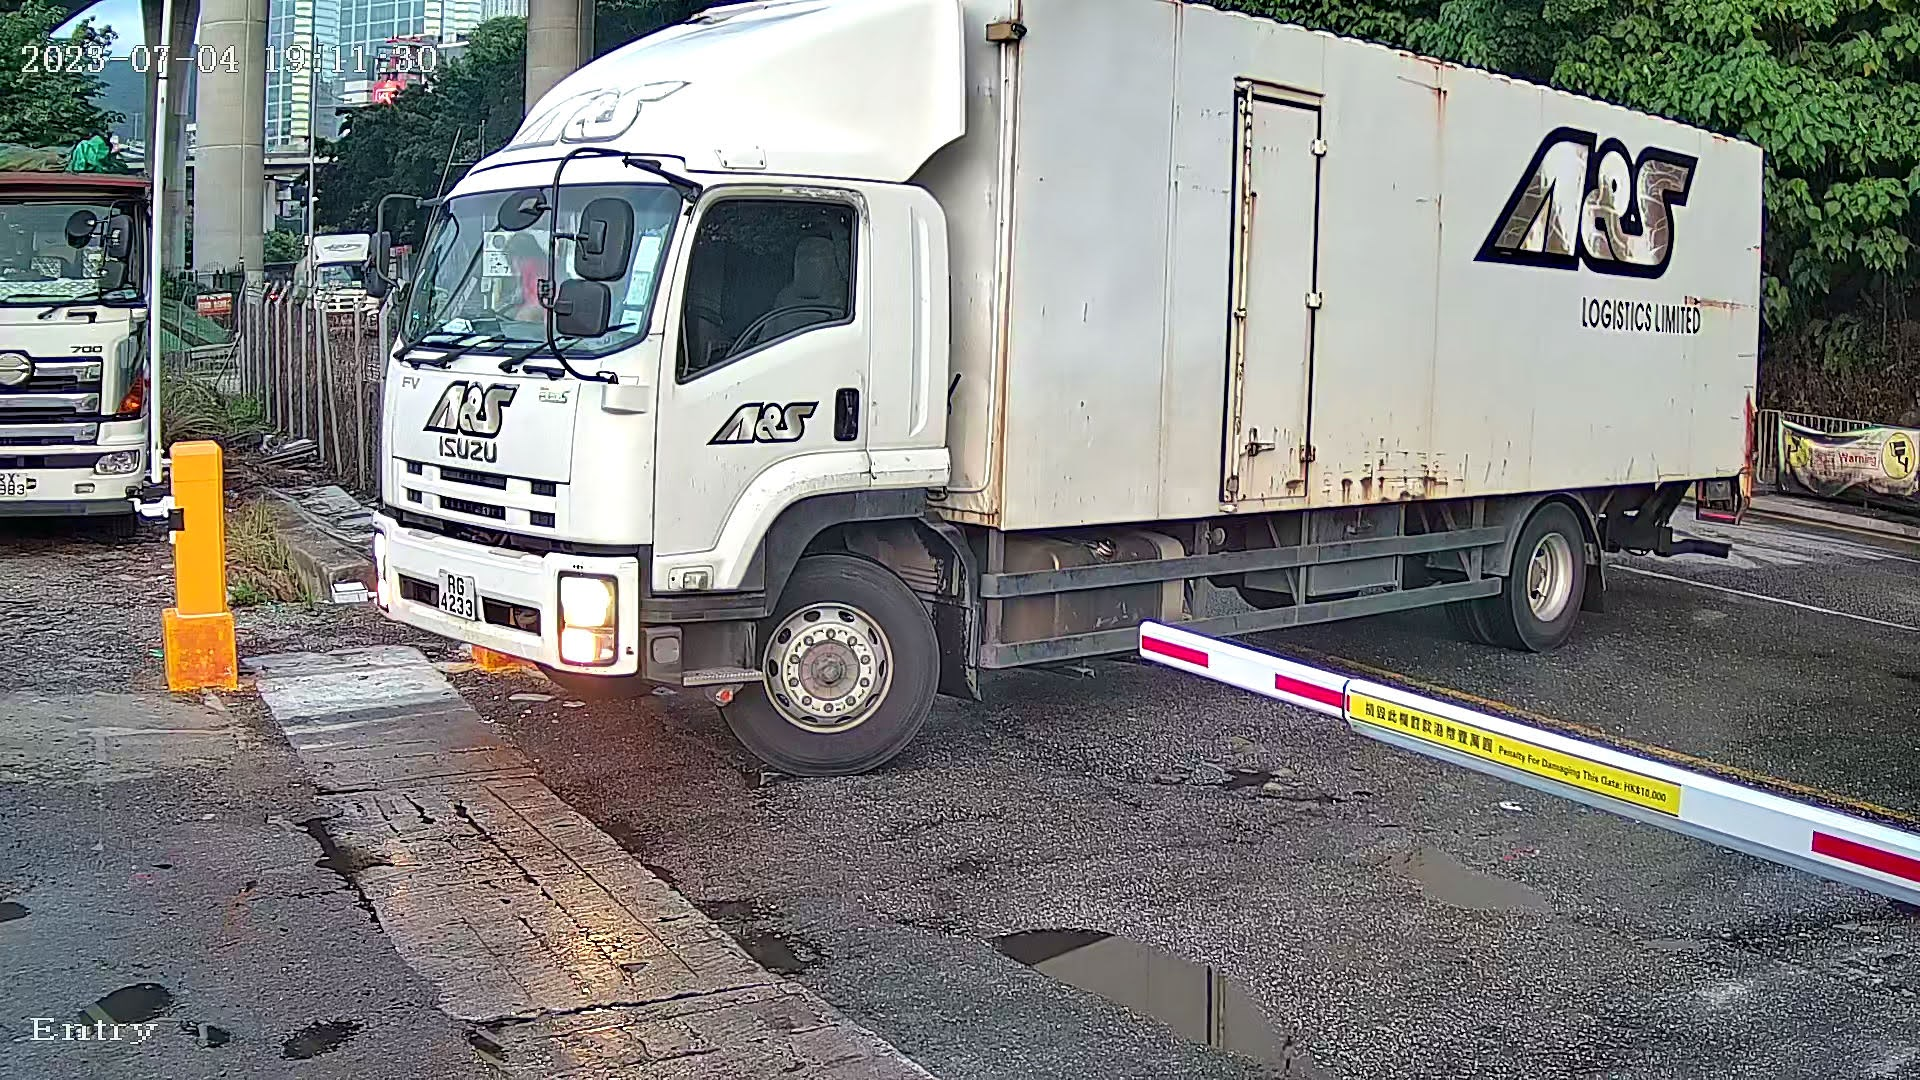truck: (357, 1, 1783, 791)
